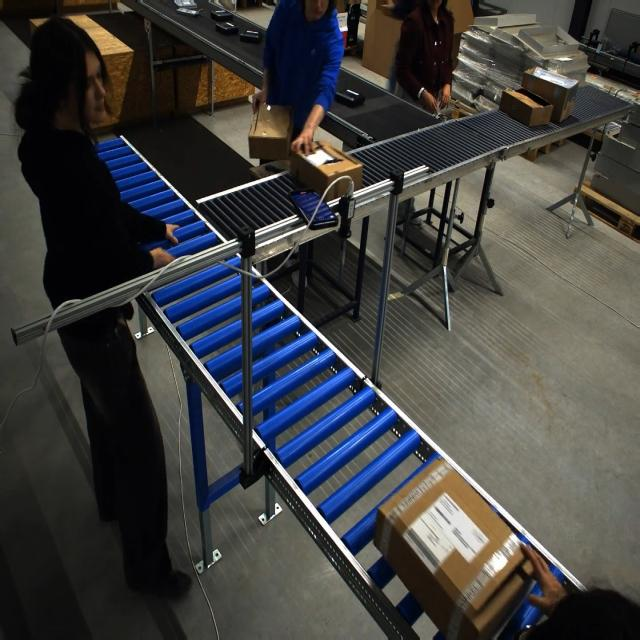box: (378, 458, 543, 636), (326, 181, 469, 259)
